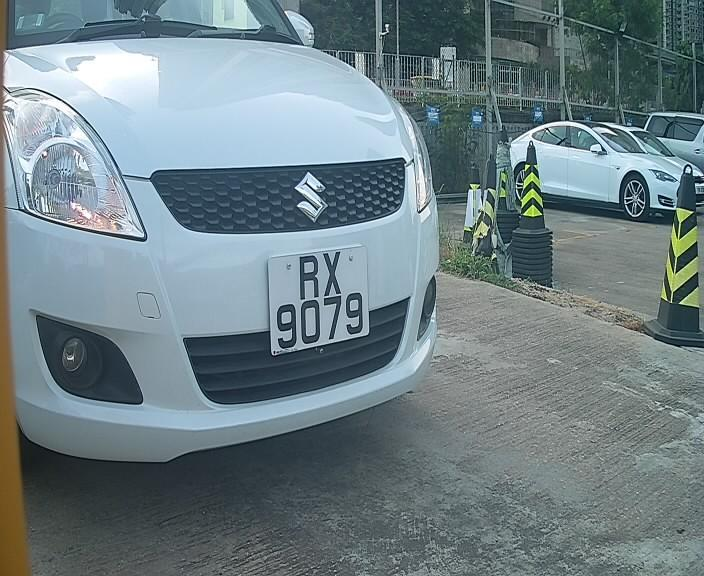privatecar: (10, 13, 459, 458)
